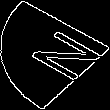N_SE: (10, 23, 100, 87)
